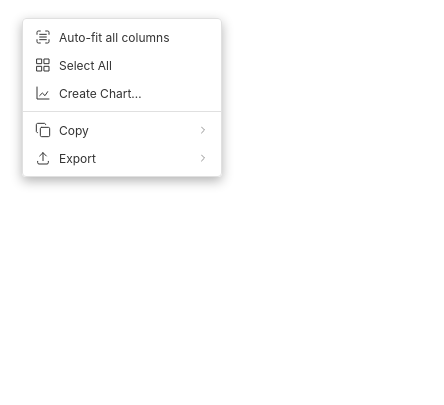
Test: ExportMenu › hides Copy submenu on mouse leave
Hover over the element with test id "copy-submenu-container".
mouse_move(122, 130)  # box [23, 116, 221, 144]
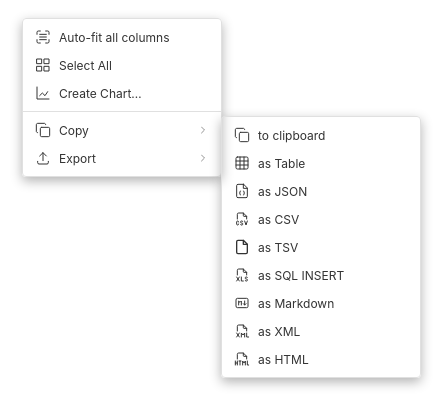
Expected: the element with test id "copy-submenu" is shown, [221, 116, 421, 378]
Move the pointer off the element with test id "copy-submenu-container", box [23, 116, 221, 144]
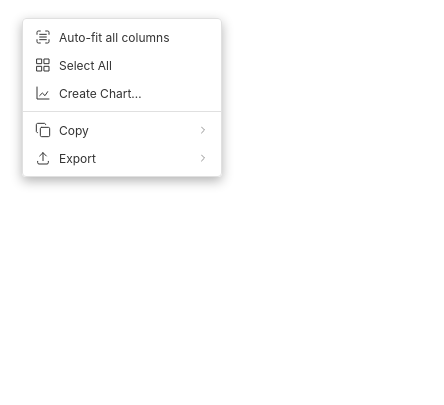
Expected: the element with test id "copy-submenu" is gone
